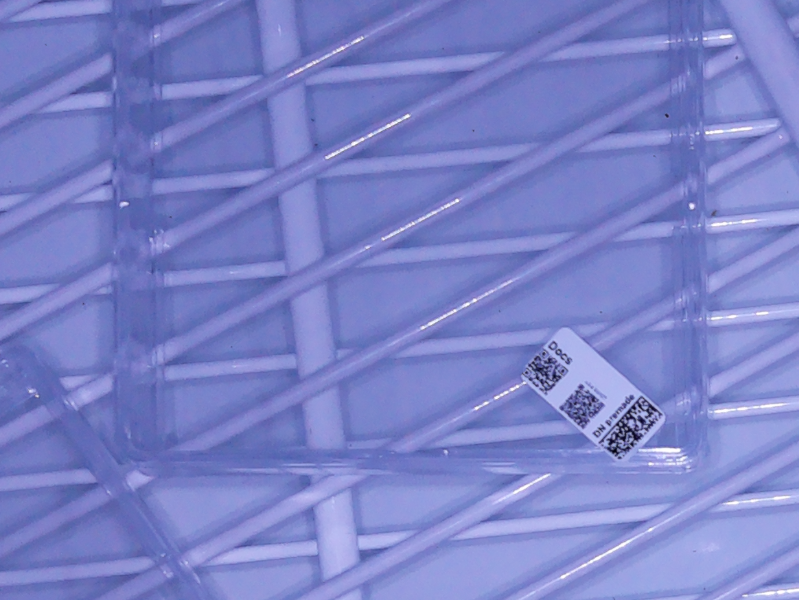plate: (100, 1, 710, 477), (1, 336, 215, 600)
